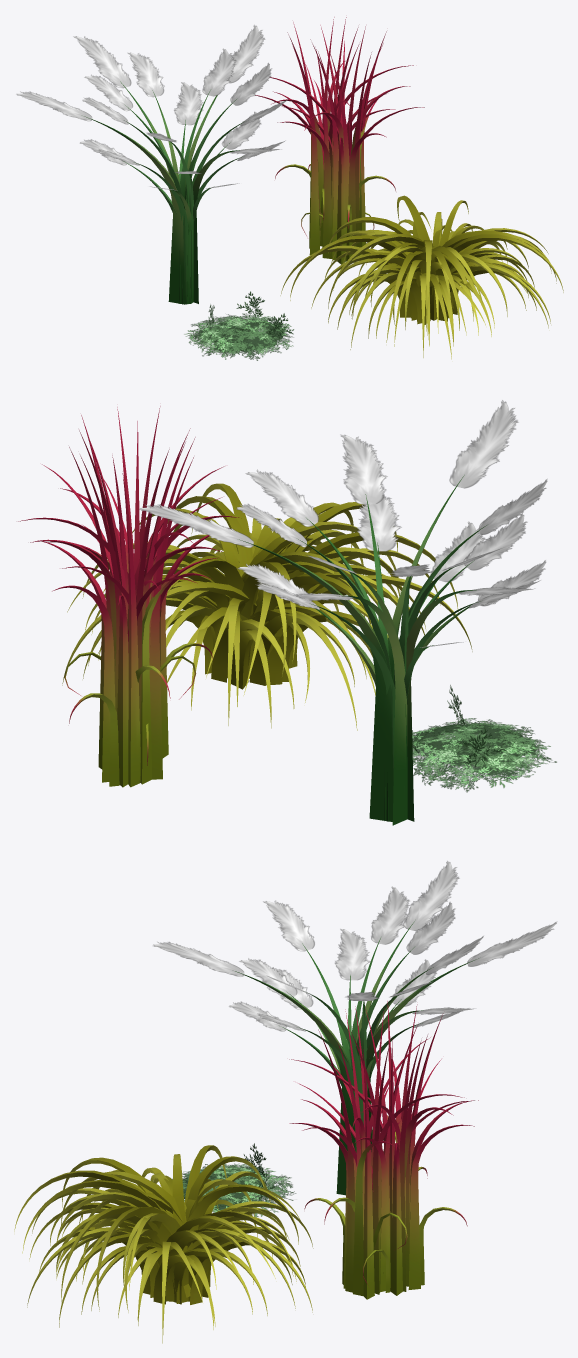
3 views of the same model, one above another, from view 1: azimuth 30°, elevation 25°; view 2: azimuth 150°, elevation 25°; view 3: azimuth 270°, elevation 25° (orthographic). The views are drawn at different scales.
Parts seen in each view (by area): view 1: Object_2, Object_3, Object_4; view 2: Object_2, Object_3, Object_4; view 3: Object_2, Object_3, Object_4.
Boxes of the visible parts, x1,y1,x2,y2 form: Object_2: (84,81,563,359); Object_3: (255,17,548,346); Object_4: (16,25,310,360); Object_2: (62,475,486,825); Object_3: (18,406,401,787); Object_4: (70,400,556,792); Object_2: (14,921,478,1343); Object_3: (22,1001,478,1326); Object_4: (153,861,556,1285).
Bounding box in the file's own units: 33.88 × 16.76 × 31.23.
1 material, 1 textured.
